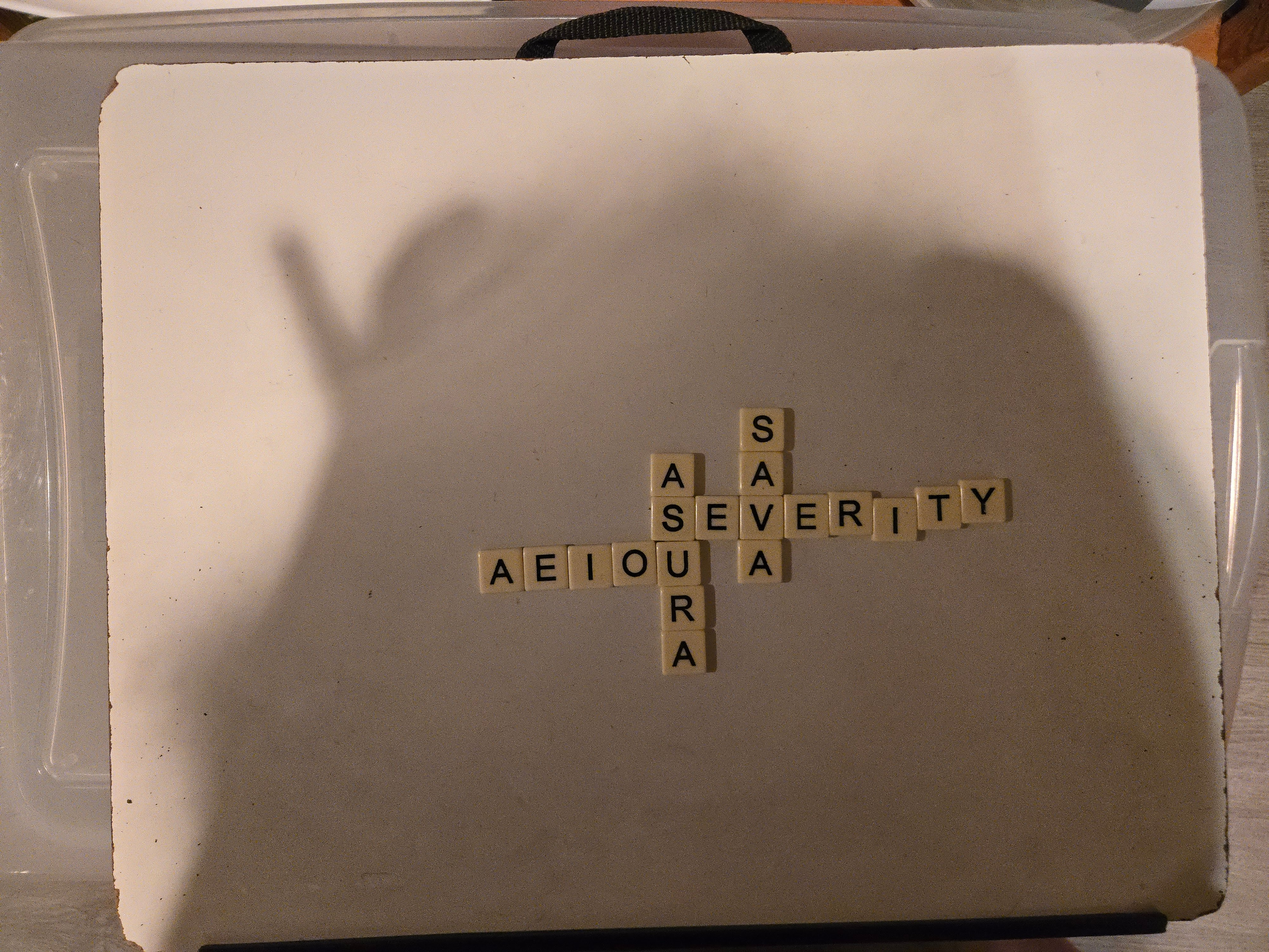Tile: (958, 479, 1008, 524), (478, 547, 524, 593), (660, 585, 706, 631), (829, 491, 876, 536), (737, 539, 785, 583), (656, 541, 702, 586), (523, 545, 569, 590), (568, 544, 613, 589), (612, 541, 657, 586), (871, 497, 917, 541), (739, 451, 785, 495), (915, 486, 961, 530), (650, 453, 696, 497), (661, 630, 707, 674), (739, 408, 786, 451), (784, 494, 828, 539), (695, 496, 739, 540), (651, 497, 695, 541), (740, 497, 784, 539)
